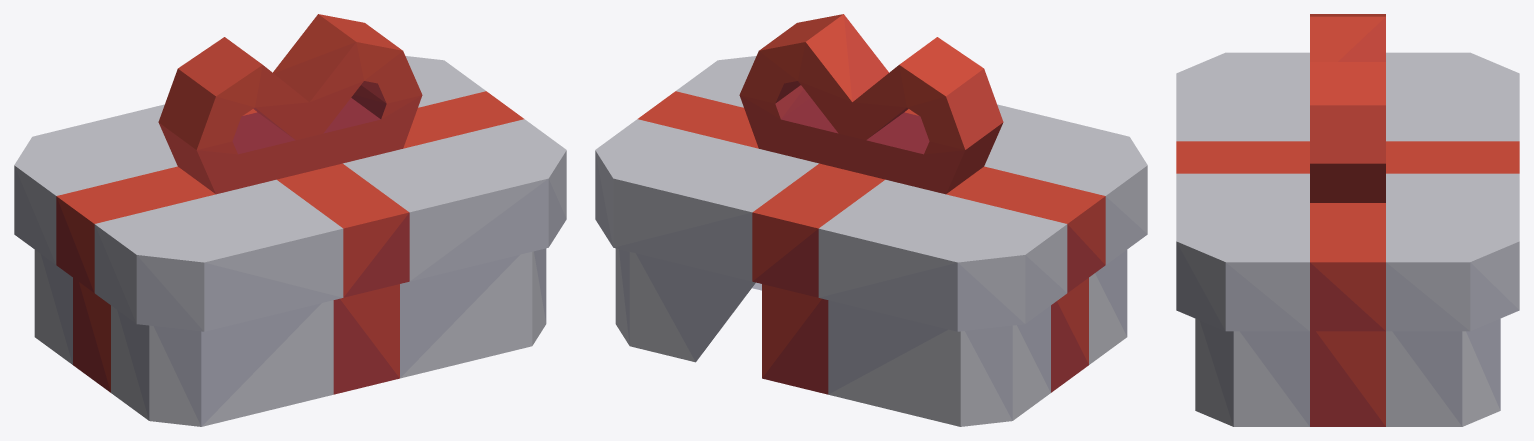
File: present_c.glb
3 renders of one model, left to right at view 1: azimuth 30°, elevation 25°; view 2: azimuth 150°, elevation 25°; view 3: azimuth 270°, elevation 25°, orthographic.
Visible parts, largest first — view 1: present_c; view 2: present_c; view 3: present_c.
Part boxes in pixels (box(x1,y1,x2,y2)): present_c: box(14, 14, 566, 426); present_c: box(595, 14, 1147, 426); present_c: box(1176, 14, 1519, 426).
Size of the model in its own units: 0.4635 by 0.3 by 0.3209.
